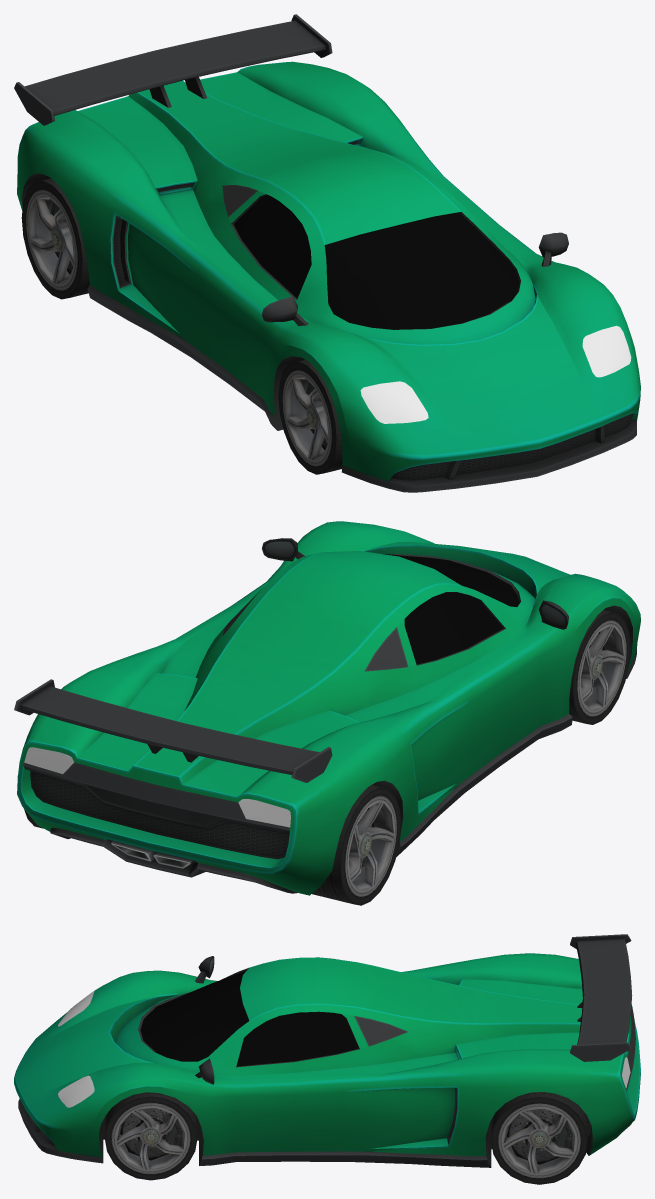
Rendered from car 22 .fbx.
3 renders of one model, top to bottom at view 1: azimuth 30°, elevation 25°; view 2: azimuth 150°, elevation 25°; view 3: azimuth 270°, elevation 25°, orthographic. The views are drawn at different scales.
Parts seen in each view (by area): view 1: Body_22, Matte_22, Glass_22, Wheel_Back_R, Wheel_R, Glass_light, Matte_22.001; view 2: Body_22, Matte_22, Glass_22, Wheel_Back_R, Wheel_R, Taillights_22, Matte_22.001; view 3: Body_22, Matte_22, Glass_22, Wheel_Back_L, Wheel_L, Matte_22.005, break_L, Glass_light, Matte_22.001.
Boxes of the visible parts, x1=… form: Body_22: x1=17, y1=61, x2=640, y2=481; Matte_22: x1=14, y1=14, x2=636, y2=492; Glass_22: x1=233, y1=195, x2=519, y2=329; Wheel_Back_R: x1=21, y1=178, x2=89, y2=299; Wheel_R: x1=278, y1=359, x2=342, y2=474; Glass_light: x1=360, y1=325, x2=631, y2=423; Matte_22.001: x1=222, y1=185, x2=257, y2=217; Body_22: x1=17, y1=521, x2=640, y2=895; Matte_22: x1=14, y1=538, x2=636, y2=893; Glass_22: x1=383, y1=554, x2=519, y2=664; Wheel_Back_R: x1=312, y1=785, x2=400, y2=905; Wheel_R: x1=569, y1=610, x2=630, y2=724; Taillights_22: x1=24, y1=747, x2=290, y2=827; Matte_22.001: x1=222, y1=595, x2=408, y2=671; Body_22: x1=14, y1=953, x2=640, y2=1157; Matte_22: x1=18, y1=934, x2=635, y2=1167; Glass_22: x1=140, y1=971, x2=358, y2=1066; Wheel_Back_L: x1=491, y1=1092, x2=588, y2=1184; Wheel_L: x1=104, y1=1092, x2=197, y2=1180; Matte_22.005: x1=506, y1=1109, x2=572, y2=1164; break_L: x1=120, y1=1108, x2=182, y2=1160; Glass_light: x1=58, y1=991, x2=94, y2=1107; Matte_22.001: x1=354, y1=1016, x2=408, y2=1046.
Size of the model in its own units: 140 by 76.68 by 297.
